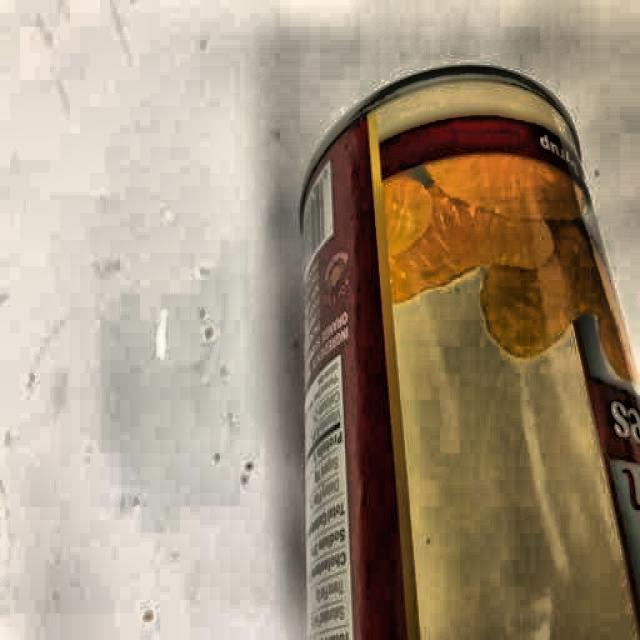metal: (293, 64, 640, 640)
